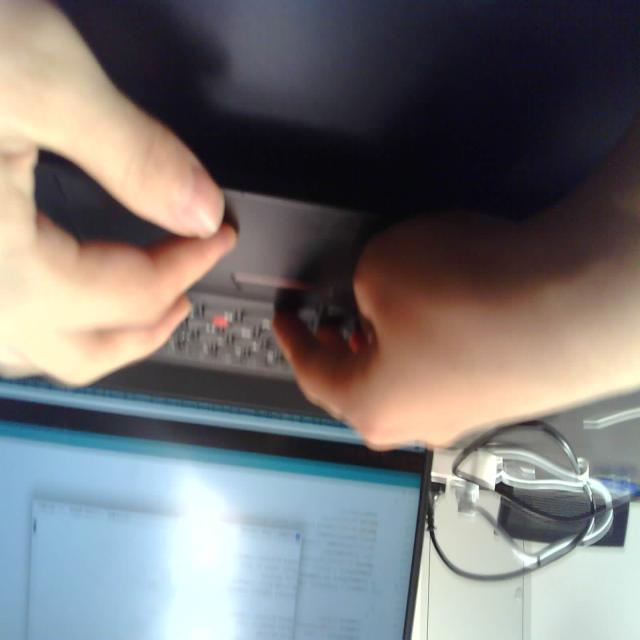keyboard-with-hands: (0, 143, 445, 417)
